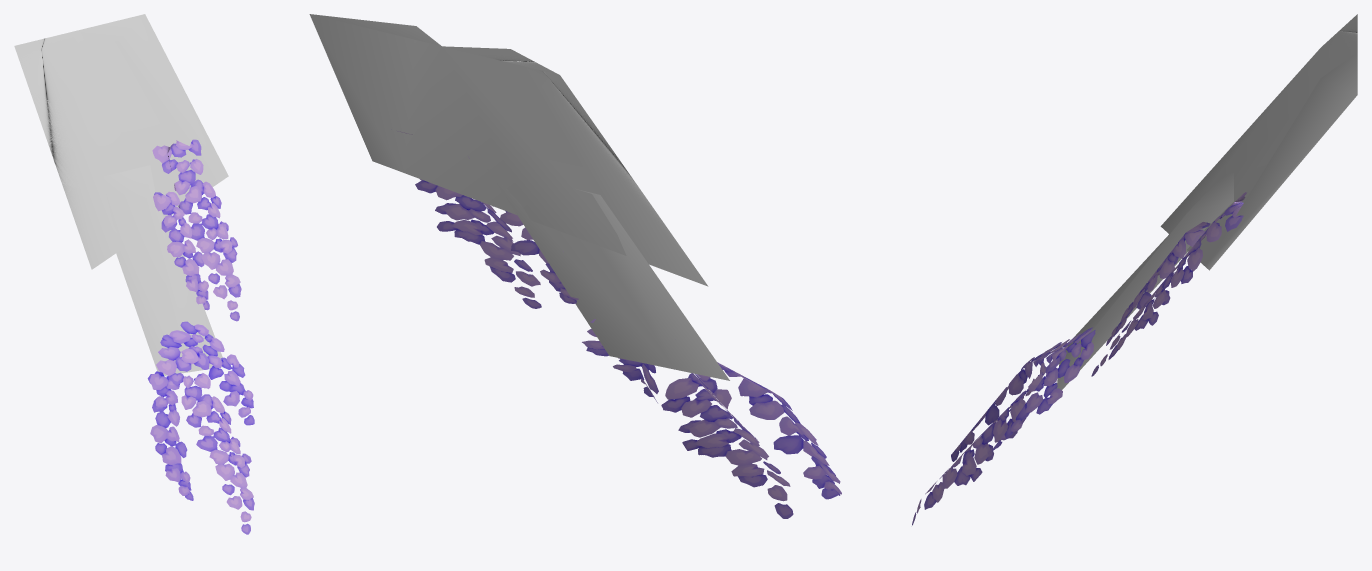
File: SM_Env_Vines_Preset_Roof_Straight_04.fbx
3 renders of one model, left to right at view 1: azimuth 30°, elevation 25°; view 2: azimuth 150°, elevation 25°; view 3: azimuth 270°, elevation 25°, orthographic. The views are drawn at different scales.
Parts seen in each view (by area): view 1: SM_Env_Vines_Preset_Roof_Straight_04; view 2: SM_Env_Vines_Preset_Roof_Straight_04; view 3: SM_Env_Vines_Preset_Roof_Straight_04.
Part boxes in pixels (x1,y1,x2,y2): SM_Env_Vines_Preset_Roof_Straight_04: [14, 14, 254, 534]; SM_Env_Vines_Preset_Roof_Straight_04: [309, 14, 841, 518]; SM_Env_Vines_Preset_Roof_Straight_04: [912, 14, 1357, 525].
Size of the model in its own units: 96.5 by 215 by 180.
